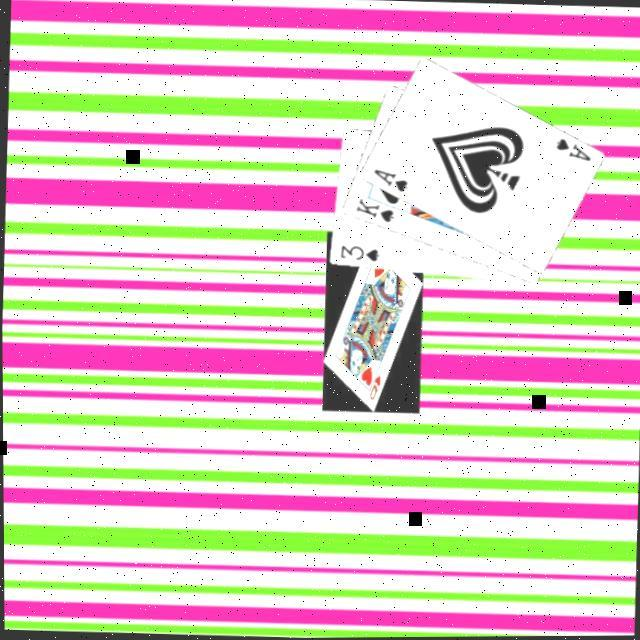3S: (338, 240, 383, 263)
AS: (553, 133, 596, 162), (371, 164, 412, 193)
KS: (353, 193, 398, 226)
